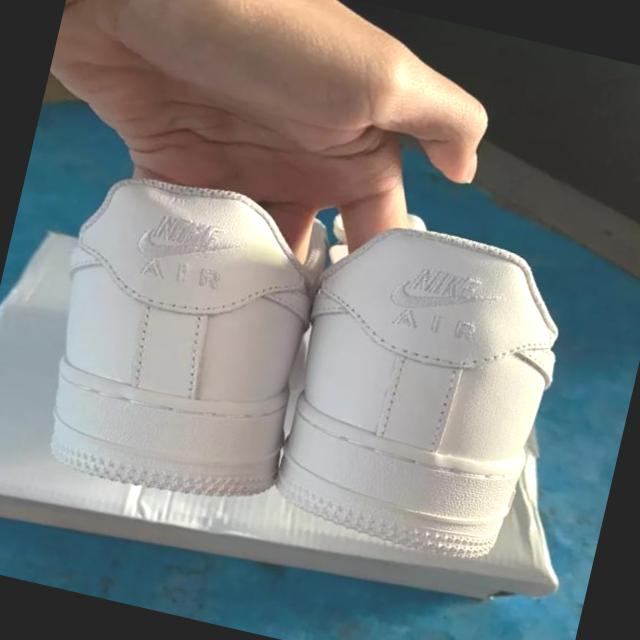nike_original_airforce: (255, 201, 580, 573), (24, 155, 339, 516)
